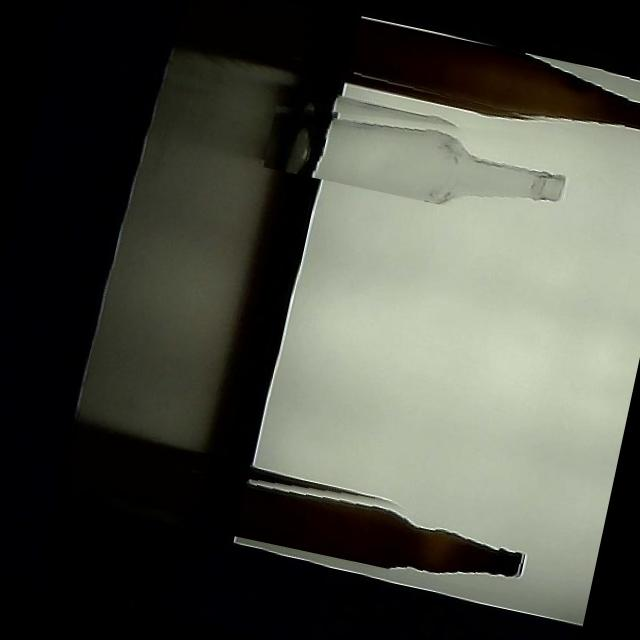Glass: (281, 4, 640, 150), (178, 450, 532, 596), (262, 76, 576, 230)
